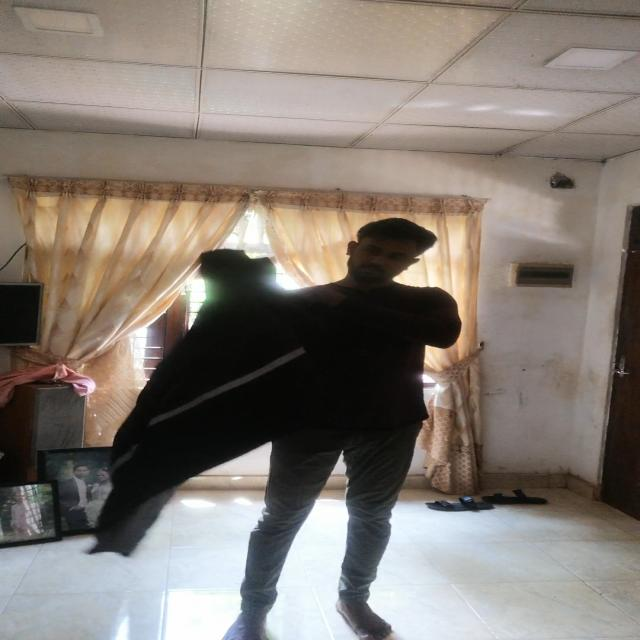Person: (213, 210, 462, 632)
